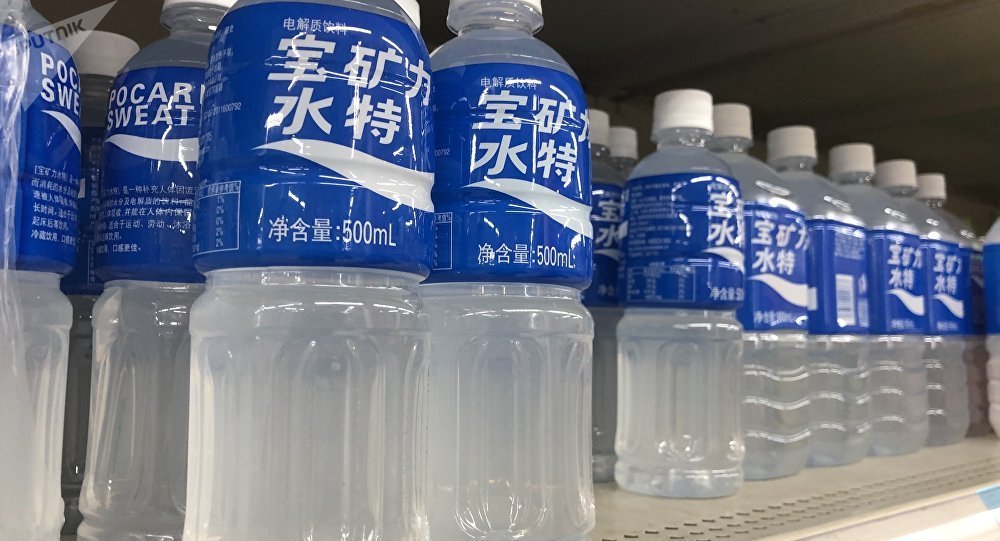POCARI SWEAT: (196, 1, 424, 536), (434, 1, 593, 539), (77, 1, 188, 534), (614, 84, 744, 503)
